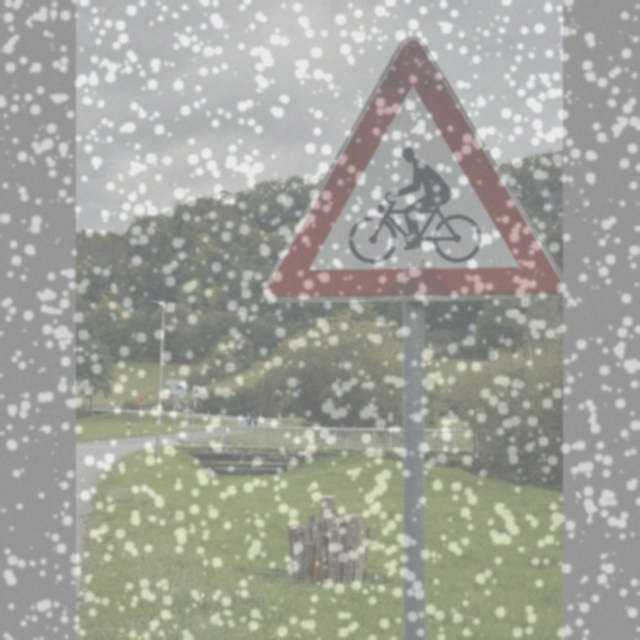Cycle_Crossing: (264, 39, 554, 298)
